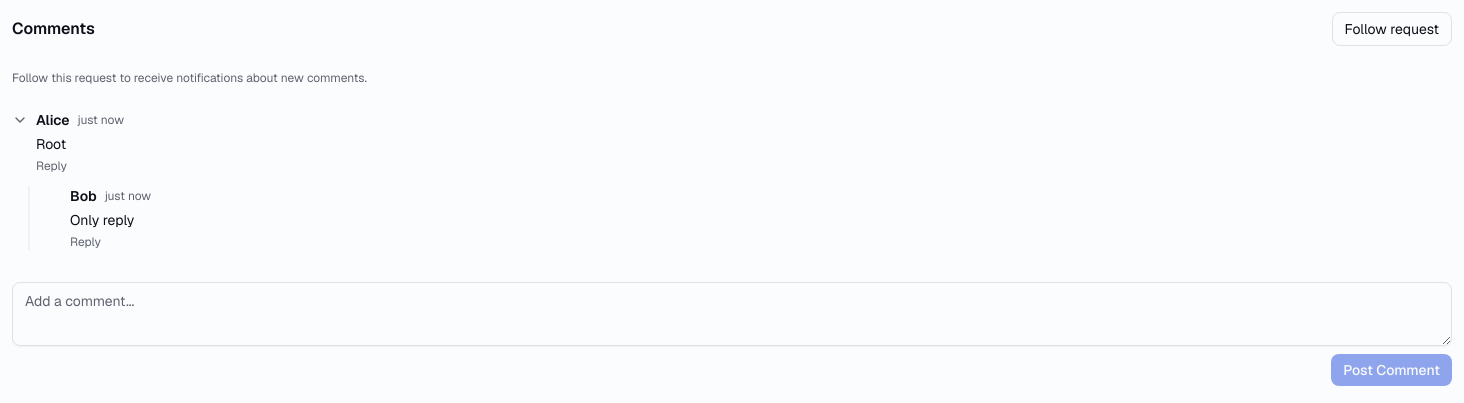
Test: CommentThread › threaded rendering › should use singular "reply" when there is exactly one descendant
Step 1. Click the button named "collapse thread" → (20, 120), box [12,112,28,128]
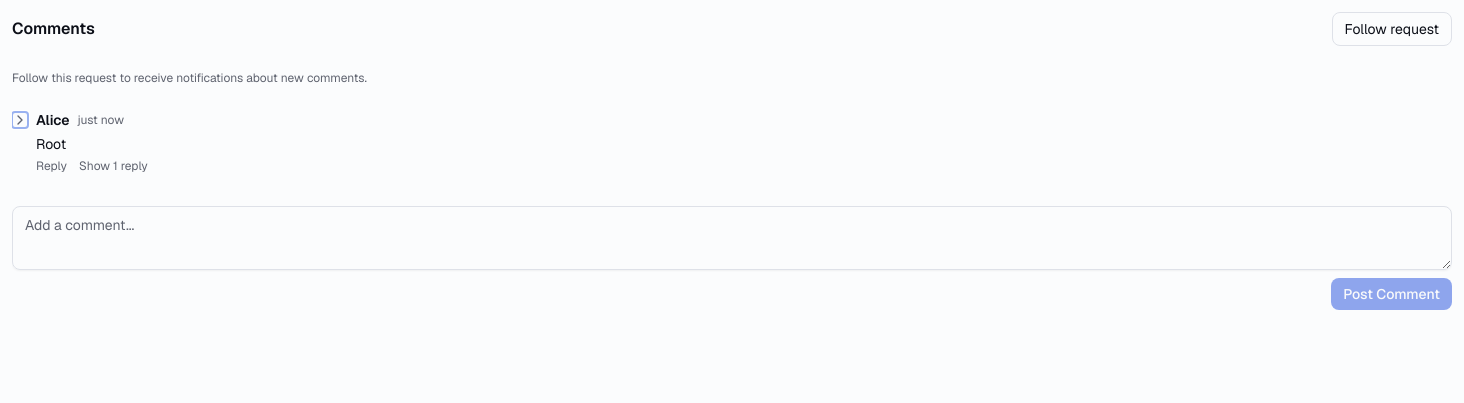
expect the button "Show 1 reply" is shown: met, box [79,158,148,174]
